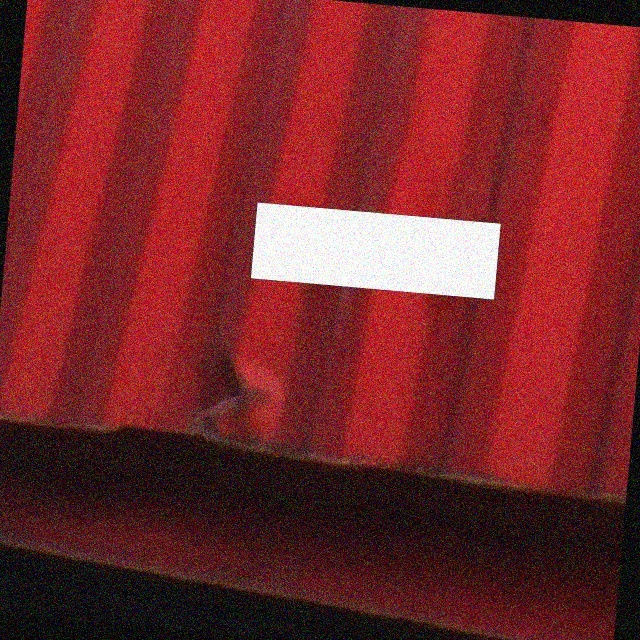Dent: (151, 338, 334, 452)
